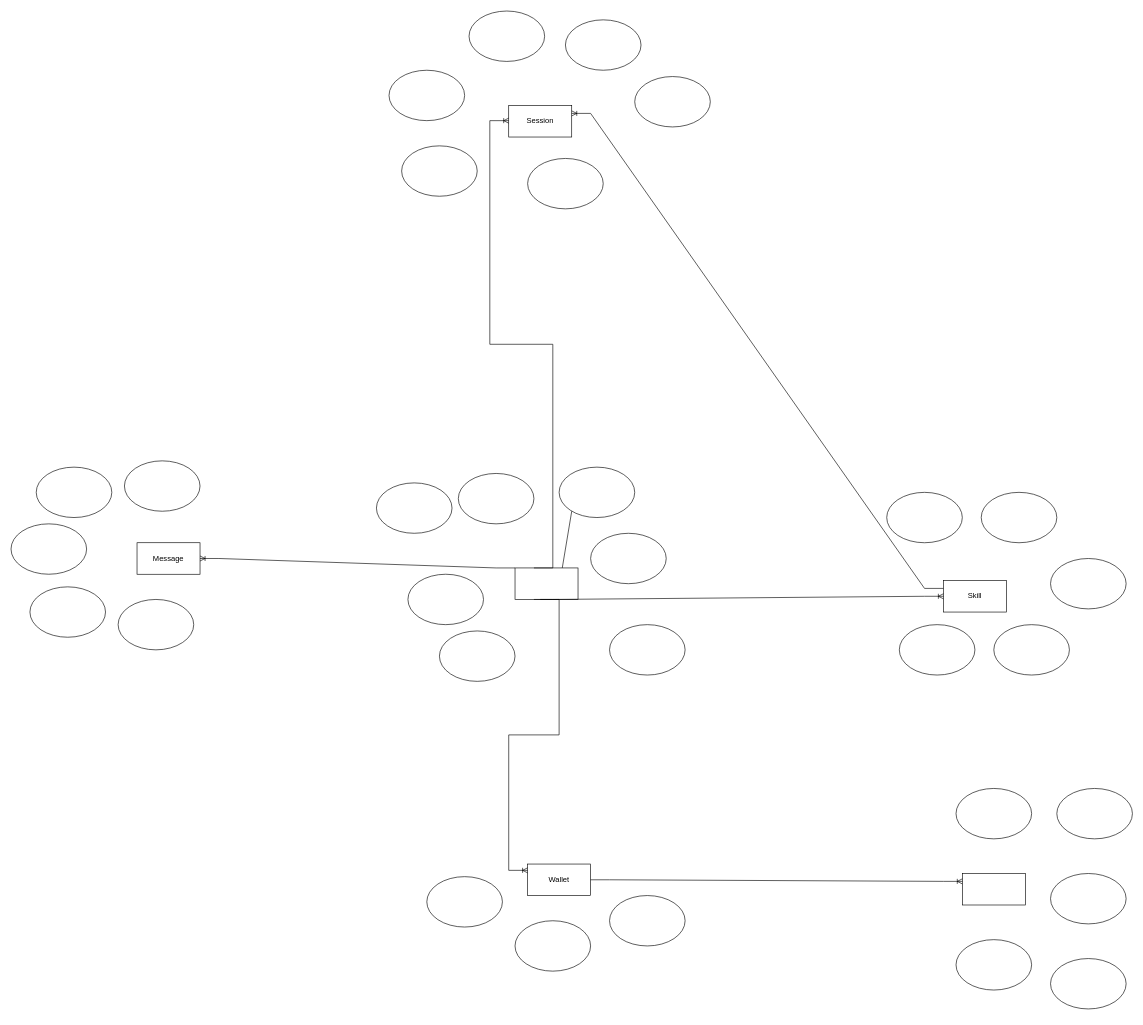
Some shapes in this 1143 by 1025 pixel diagram are drawn without their labels. Here are the shapes that lost their labels. From the top down, the centre of each, then its label:
(x=546, y=583): User
(x=993, y=889): Transaction
